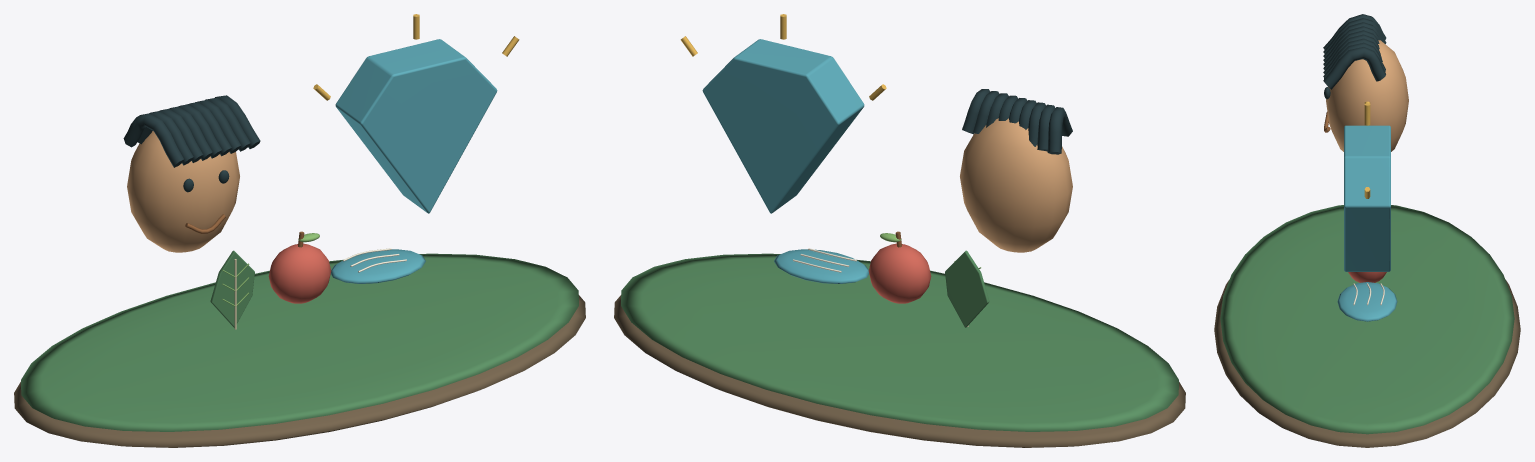
Rendered from complete-first-face-color-palette.glb.
The picture shows the model from 3 angles, left to right: view 1: azimuth 30°, elevation 25°; view 2: azimuth 150°, elevation 25°; view 3: azimuth 270°, elevation 25°; orthographic projection. The views are drawn at different scales.
Visible parts, largest first — view 1: complete-first-face-color-palette_surface_01, complete-first-face-color-palette_surface_05, complete-first-face-color-palette_surface_00, complete-first-face-color-palette_surface_02, complete-first-face-color-palette_surface_03, complete-first-face-color-palette_surface_09; view 2: complete-first-face-color-palette_surface_01, complete-first-face-color-palette_surface_05, complete-first-face-color-palette_surface_02, complete-first-face-color-palette_surface_00, complete-first-face-color-palette_surface_03, complete-first-face-color-palette_surface_09; view 3: complete-first-face-color-palette_surface_01, complete-first-face-color-palette_surface_05, complete-first-face-color-palette_surface_00, complete-first-face-color-palette_surface_02, complete-first-face-color-palette_surface_03, complete-first-face-color-palette_surface_09.
Boxes of the visible parts, x1,y1,x2,y2 form: complete-first-face-color-palette_surface_01: (21,250,578,431); complete-first-face-color-palette_surface_05: (331,39,497,283); complete-first-face-color-palette_surface_00: (14,295,585,447); complete-first-face-color-palette_surface_02: (127,131,239,252); complete-first-face-color-palette_surface_03: (123,95,260,192); complete-first-face-color-palette_surface_09: (268,243,331,303); complete-first-face-color-palette_surface_01: (621,250,1178,431); complete-first-face-color-palette_surface_05: (702,39,868,283); complete-first-face-color-palette_surface_02: (960,118,1072,252); complete-first-face-color-palette_surface_00: (614,295,1185,447); complete-first-face-color-palette_surface_03: (962,89,1072,154); complete-first-face-color-palette_surface_09: (868,243,931,303); complete-first-face-color-palette_surface_01: (1220,205,1514,434); complete-first-face-color-palette_surface_05: (1337,125,1397,321); complete-first-face-color-palette_surface_00: (1214,280,1520,447); complete-first-face-color-palette_surface_02: (1326,40,1408,151); complete-first-face-color-palette_surface_03: (1323,14,1386,99); complete-first-face-color-palette_surface_09: (1348,272,1386,282).
Bounding box in the file's own units: 4.56 × 2.61 × 2.5.
